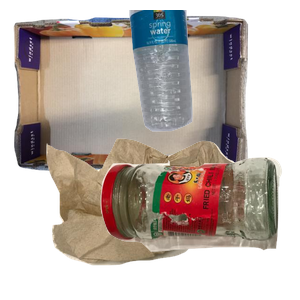cardboard: (11, 13, 251, 182)
glass: (98, 155, 300, 300)
plastic: (127, 10, 300, 134)
trash: (44, 136, 277, 300)
